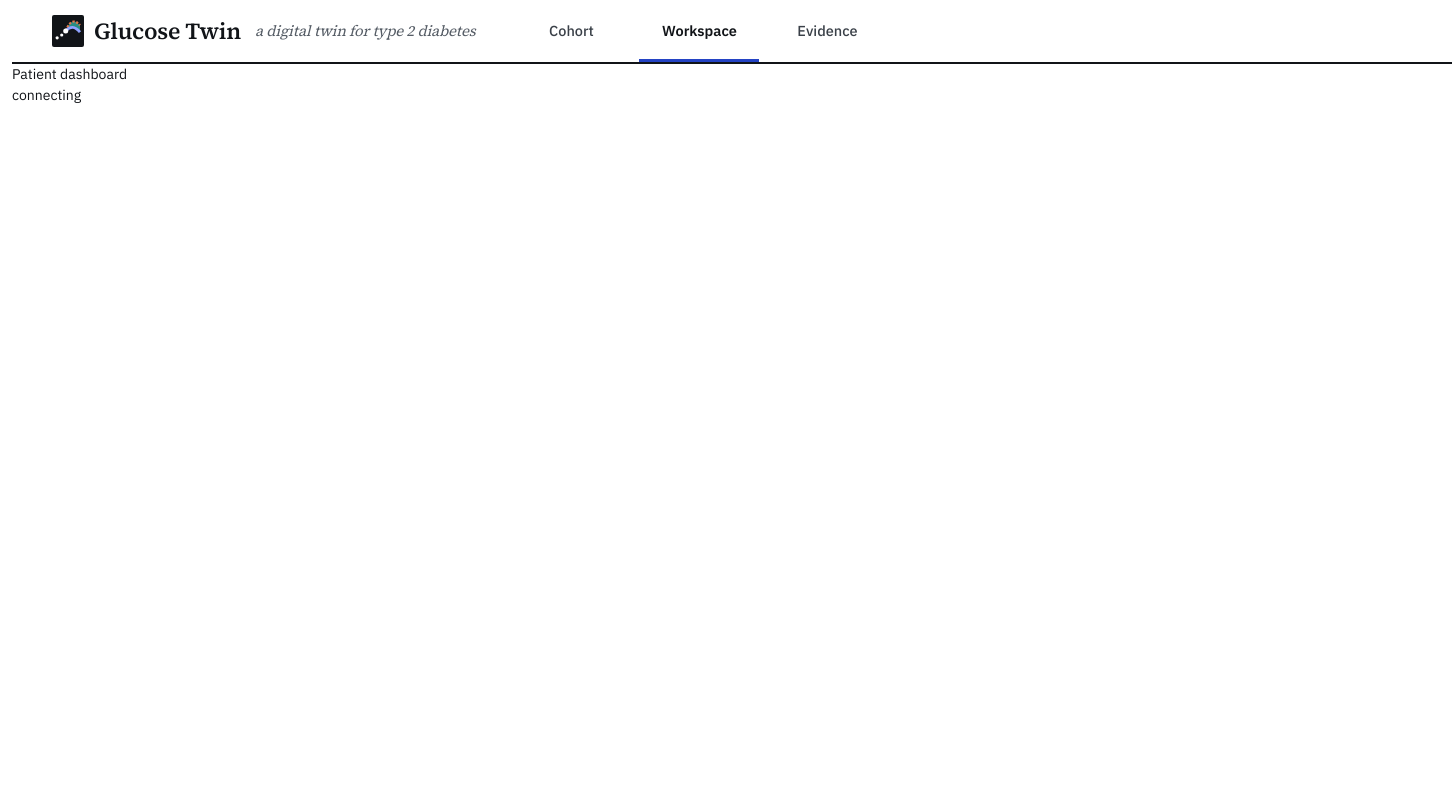
Scenario: Connected patient to Evidence and Cohort cancellation lifecycle › ignores an in-flight fetch rejection caused by navigation, without scheduling retries
The image size is (1452, 810).
Step 1. Click the link "Evidence" → [828, 31], box 768,0 -> 888,62
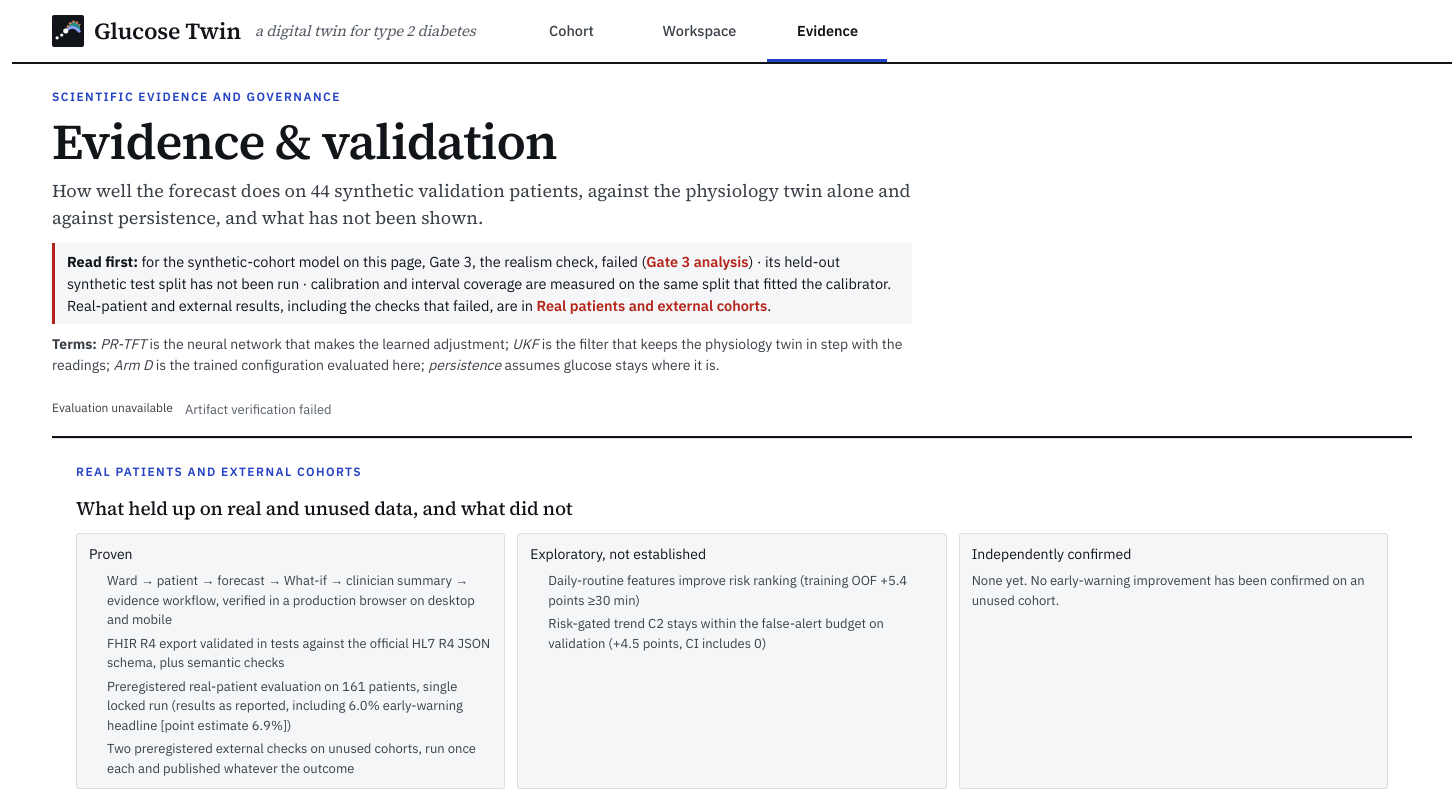
Check: the heading "Evidence & validation" is shown, box 52,107 -> 557,176
